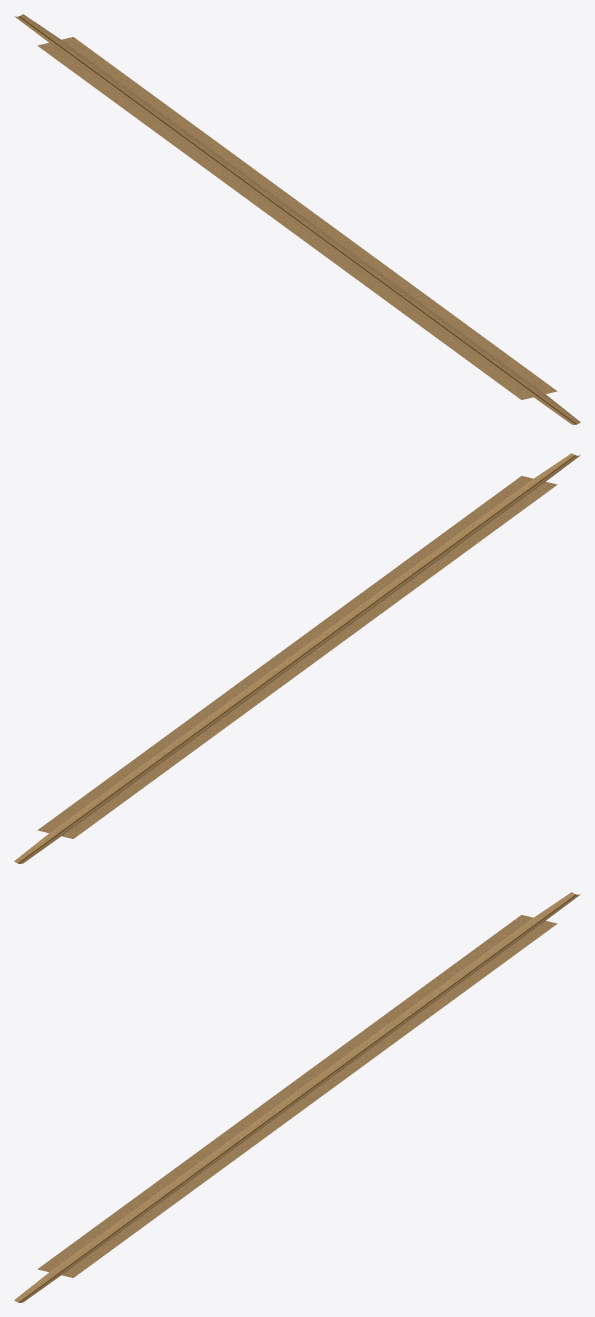
Rendered from BoulderTrack.fbx.
3 renders of one model, top to bottom at view 1: azimuth 30°, elevation 25°; view 2: azimuth 150°, elevation 25°; view 3: azimuth 330°, elevation 25°, orthographic.
Parts seen in each view (by area): view 1: pPlane1; view 2: pPlane1; view 3: pPlane1.
Boxes of the visible parts, x1,y1,x2,y2 form: pPlane1: (14, 14, 580, 424); pPlane1: (14, 453, 580, 863); pPlane1: (14, 892, 580, 1302).
Size of the model in its own units: 855 by 48.86 by 22828.
Materials: 1 (1 with a texture image).
